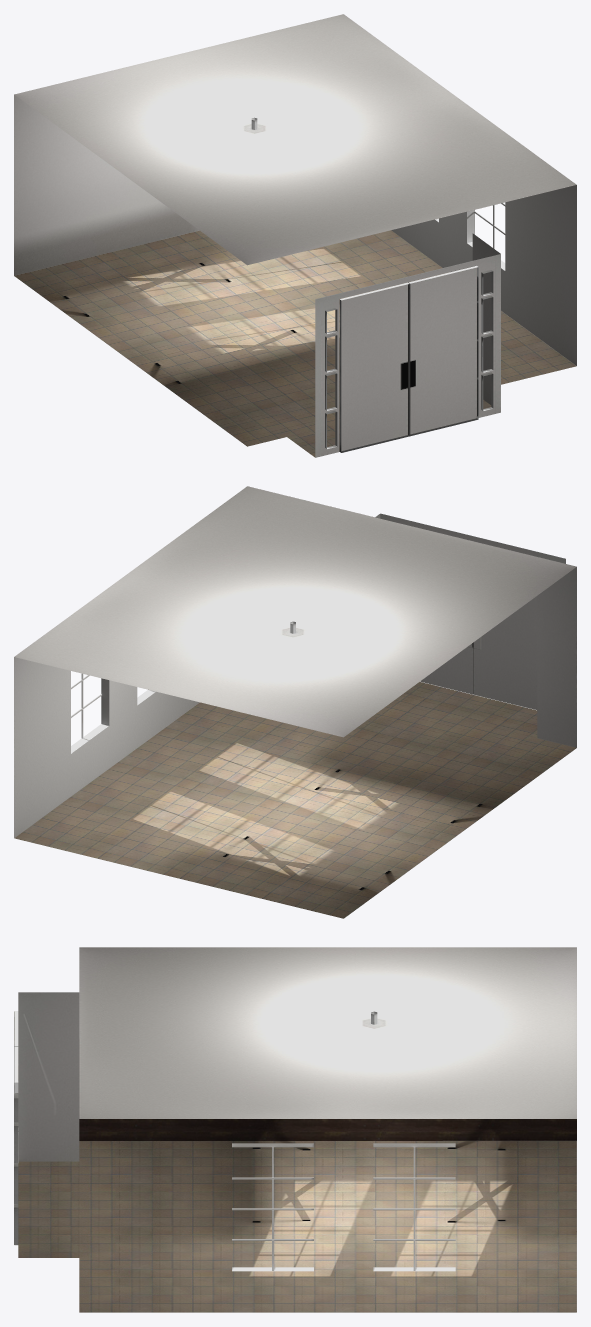
File: Room.glb
3 views of the same model, one above another, from view 1: azimuth 30°, elevation 25°; view 2: azimuth 150°, elevation 25°; view 3: azimuth 270°, elevation 25° (orthographic). The views are drawn at different scales.
Parts seen in each view (by area): view 1: Material2, Material2.001; view 2: Material2, Material2.001; view 3: Material2.
Boxes of the visible parts, bbox=[...] form: Material2: bbox=[14, 14, 576, 457]; Material2.001: bbox=[475, 203, 504, 262]; Material2: bbox=[14, 486, 576, 918]; Material2.001: bbox=[71, 671, 146, 745]; Material2: bbox=[14, 947, 576, 1312].
Bounding box in the file's own units: 187 × 101 × 253.
3 materials, 1 textured.
